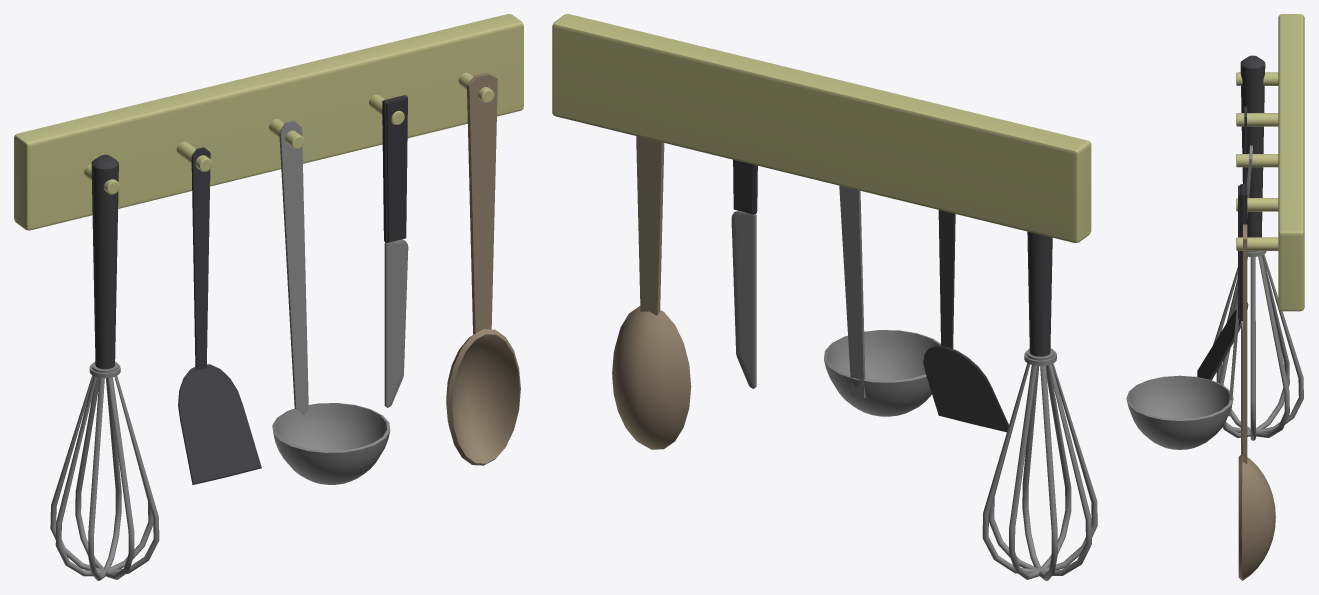
Rendered from colored kitchen ustensils.fbx.
3 views of the same model, side by side, from view 1: azimuth 30°, elevation 25°; view 2: azimuth 150°, elevation 25°; view 3: azimuth 270°, elevation 25° (orthographic). The views are drawn at different scales.
Visible parts, largest first — view 1: kitchen_stuff_hanger, spoon, ladle, palete, polySurface3, polySurface1, polySurface2, polySurface6, polySurface7, polySurface5, polySurface4; view 2: kitchen_stuff_hanger, spoon, ladle, palete, polySurface1, polySurface3, polySurface6, polySurface5, polySurface7, polySurface4, polySurface2; view 3: kitchen_stuff_hanger, ladle, spoon, polySurface3, polySurface7, palete, polySurface6, polySurface5, polySurface4, polySurface2, polySurface1.
Boxes of the visible parts, x1,y1,x2,y2 form: kitchen_stuff_hanger: [14, 14, 523, 230]; spoon: [446, 72, 520, 465]; ladle: [272, 120, 390, 484]; palete: [178, 147, 261, 484]; polySurface3: [91, 154, 118, 369]; polySurface1: [384, 239, 408, 407]; polySurface2: [382, 95, 407, 242]; polySurface6: [75, 377, 134, 579]; polySurface7: [88, 377, 121, 580]; polySurface5: [50, 375, 159, 573]; polySurface4: [55, 376, 153, 576]; kitchen_stuff_hanger: [552, 14, 1091, 242]; spoon: [612, 136, 691, 449]; ladle: [824, 185, 940, 416]; palete: [923, 210, 1008, 432]; polySurface1: [731, 210, 756, 388]; polySurface3: [1027, 231, 1052, 356]; polySurface6: [1009, 365, 1071, 579]; polySurface5: [1022, 365, 1057, 580]; polySurface7: [982, 363, 1097, 573]; polySurface4: [989, 364, 1091, 575]; polySurface2: [733, 159, 757, 214]; kitchen_stuff_hanger: [1236, 14, 1304, 311]; ladle: [1126, 145, 1252, 449]; spoon: [1238, 224, 1275, 580]; polySurface3: [1240, 55, 1265, 237]; polySurface7: [1216, 255, 1289, 437]; palete: [1197, 106, 1248, 379]; polySurface6: [1213, 254, 1303, 432]; polySurface5: [1218, 255, 1289, 437]; polySurface4: [1250, 257, 1255, 440]; polySurface2: [1238, 184, 1247, 320]; polySurface1: [1241, 321, 1242, 454].
Size of the model in its own units: 0.4472 by 0.3751 by 0.1533.
